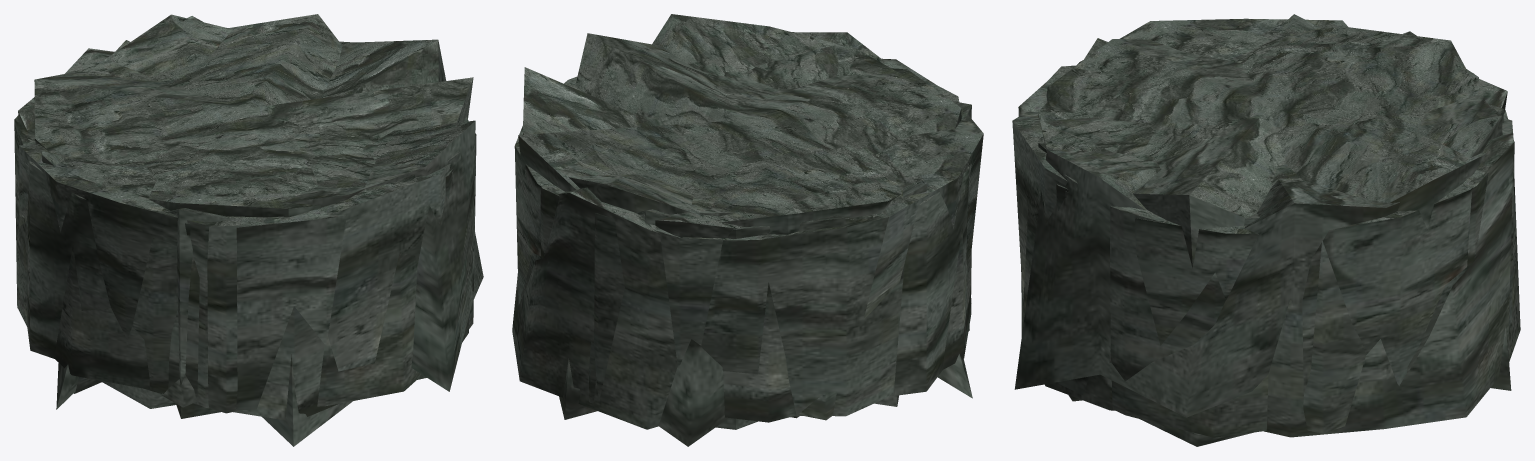
Rendered from rocks_all2.glb.
3 renders of one model, left to right at view 1: azimuth 30°, elevation 25°; view 2: azimuth 150°, elevation 25°; view 3: azimuth 270°, elevation 25°, orthographic. The views are drawn at different scales.
Parts seen in each view (by area): view 1: 10-512 (×2), 3-512 (×2), 2-512 (×2), 9-512 (×2), 1-512 (×2), 6-512, 11-512, 7-512, 4-512; view 2: 10-512 (×2), 2-512 (×2), 1-512 (×2), 3-512 (×2), 9-512 (×2), 11-512 (×2), 5-512; view 3: 10-512 (×2), 9-512 (×2), 2-512 (×2), 1-512 (×2), 3-512 (×2), 11-512, 8-512.
Boxes of the visible parts, x1=… form: 10-512 (×2): x1=34, y1=14, x2=473, y2=446; 3-512 (×2): x1=27, y1=116, x2=468, y2=410; 2-512 (×2): x1=19, y1=16, x2=468, y2=420; 9-512 (×2): x1=56, y1=14, x2=483, y2=409; 1-512 (×2): x1=14, y1=115, x2=476, y2=413; 6-512: x1=168, y1=209, x2=231, y2=418; 11-512: x1=65, y1=48, x2=460, y2=162; 7-512: x1=102, y1=381, x2=176, y2=408; 4-512: x1=157, y1=375, x2=196, y2=407; 10-512 (×2): x1=518, y1=33, x2=961, y2=419; 2-512 (×2): x1=512, y1=32, x2=983, y2=429; 1-512 (×2): x1=514, y1=84, x2=971, y2=416; 3-512 (×2): x1=521, y1=58, x2=971, y2=422; 9-512 (×2): x1=523, y1=14, x2=972, y2=446; 11-512 (×2): x1=655, y1=72, x2=799, y2=418; 5-512: x1=716, y1=218, x2=857, y2=429; 10-512 (×2): x1=1046, y1=26, x2=1511, y2=390; 9-512 (×2): x1=1014, y1=78, x2=1502, y2=417; 2-512 (×2): x1=1012, y1=18, x2=1520, y2=437; 1-512 (×2): x1=1045, y1=65, x2=1510, y2=437; 3-512 (×2): x1=1018, y1=82, x2=1514, y2=433; 11-512: x1=1065, y1=77, x2=1507, y2=183; 8-512: x1=1038, y1=143, x2=1252, y2=446.
Bounding box in the file's own units: 11.54 × 6.7 × 11.37.
1 material, 1 textured.
